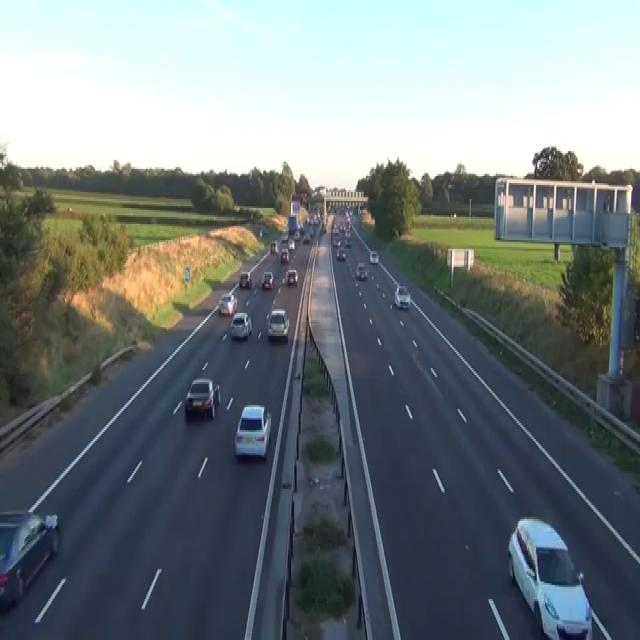Car: (507, 516, 592, 638), (0, 508, 60, 612), (234, 404, 271, 458), (184, 377, 220, 419), (266, 308, 289, 342), (230, 311, 252, 340), (217, 292, 237, 314), (394, 284, 410, 310), (261, 270, 274, 290), (282, 268, 298, 284), (355, 261, 367, 279), (239, 272, 251, 288), (280, 247, 289, 263), (336, 246, 346, 260), (369, 249, 378, 263), (270, 240, 278, 254), (302, 233, 311, 243), (279, 237, 288, 246), (333, 237, 341, 247), (288, 238, 295, 249), (298, 224, 305, 235), (331, 224, 339, 233), (294, 229, 299, 240), (322, 222, 327, 233), (345, 238, 351, 247), (259, 228, 262, 236), (452, 211, 456, 217)
Truck: (288, 197, 300, 233)
